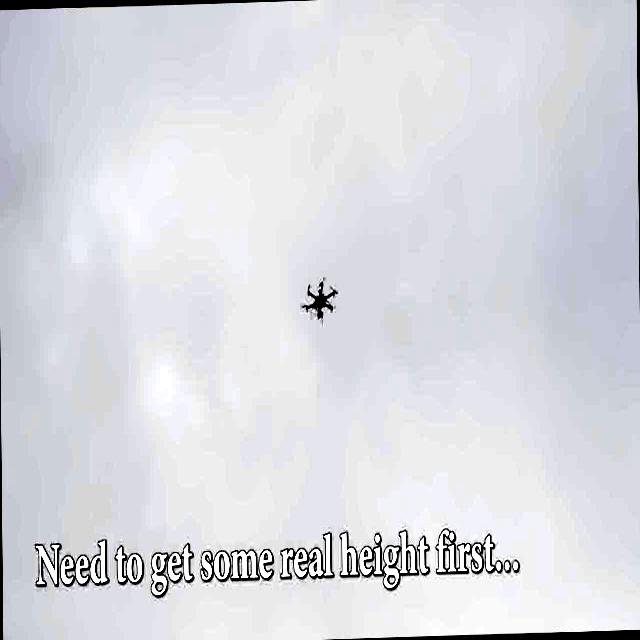drone: (288, 259, 346, 334)
